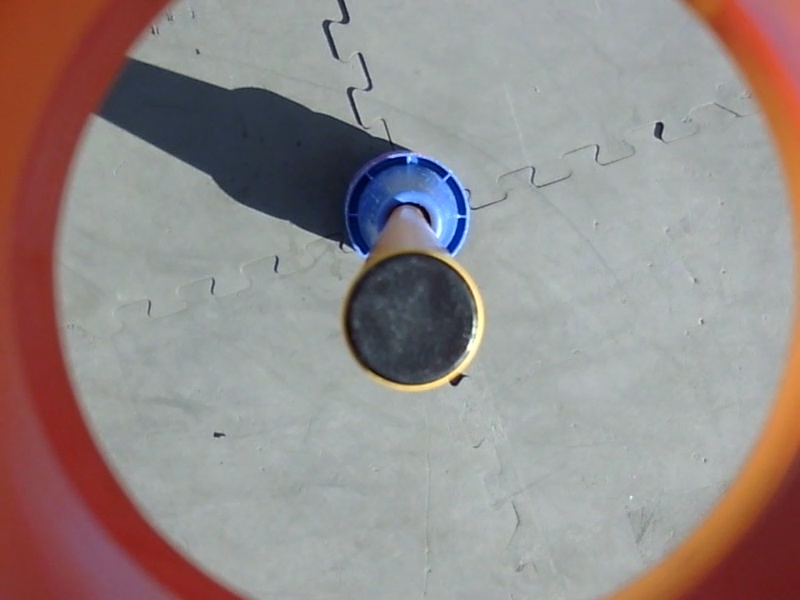tip: (338, 247, 489, 396)
